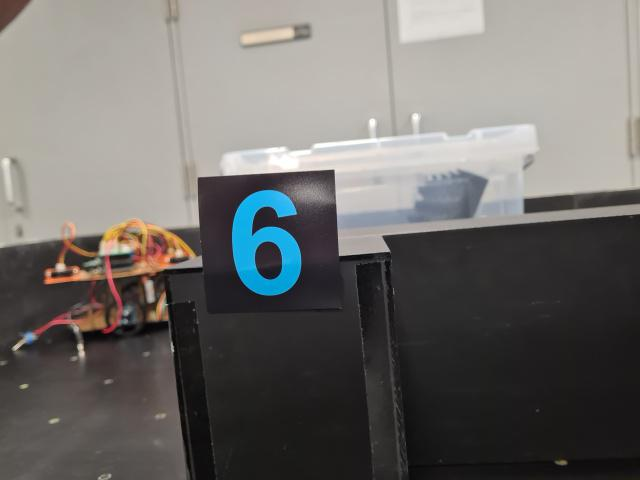six: (198, 170, 343, 312)
